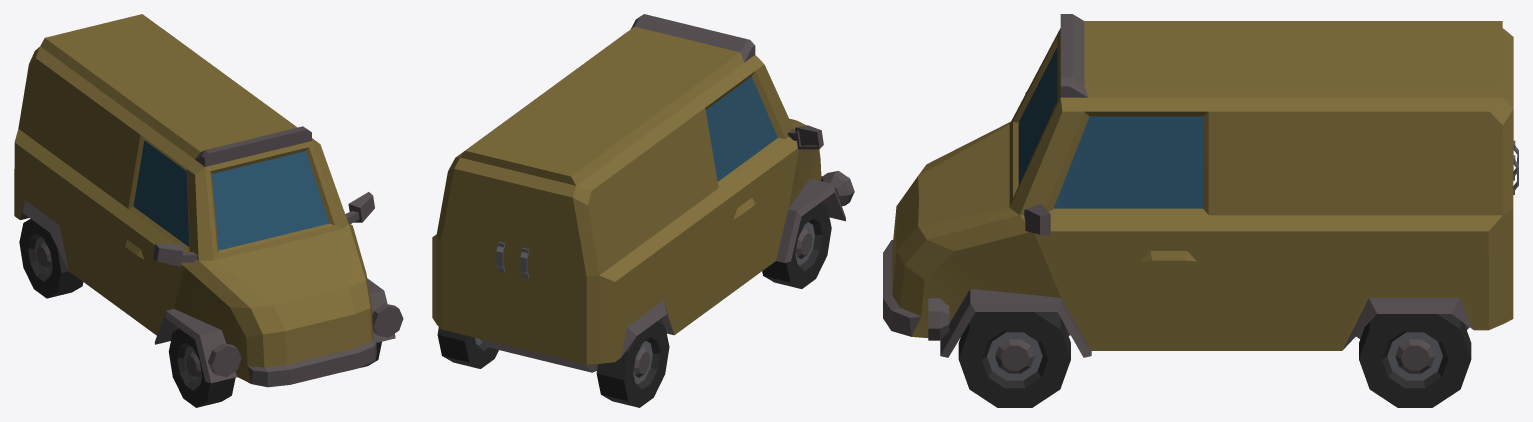
Rendered from LP_VehicleN.fbx.
3 views of the same model, side by side, from view 1: azimuth 30°, elevation 25°; view 2: azimuth 150°, elevation 25°; view 3: azimuth 270°, elevation 25° (orthographic). The views are drawn at different scales.
Visible parts, largest first — view 1: VehicleN; view 2: VehicleN; view 3: VehicleN.
Boxes of the visible parts, <box> form: VehicleN: <box>14,14,403,407</box>; VehicleN: <box>432,14,854,407</box>; VehicleN: <box>883,14,1518,407</box>.
Size of the model in its own units: 209 by 209 by 394.
